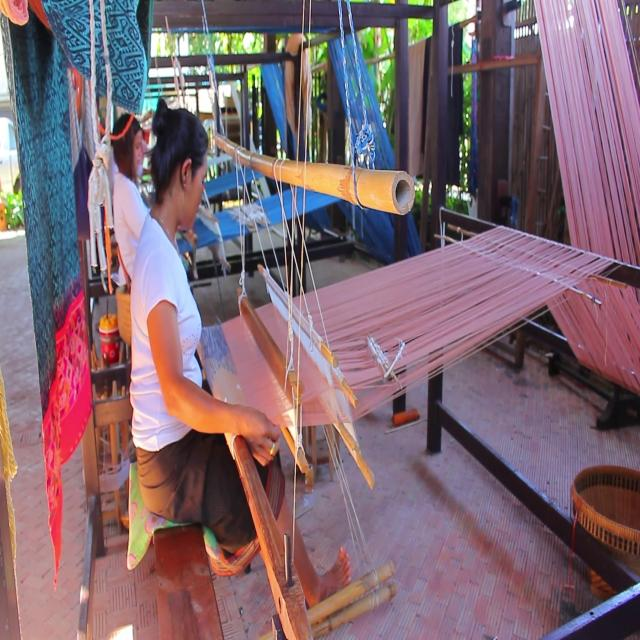not-gloved: (237, 404, 281, 468)
